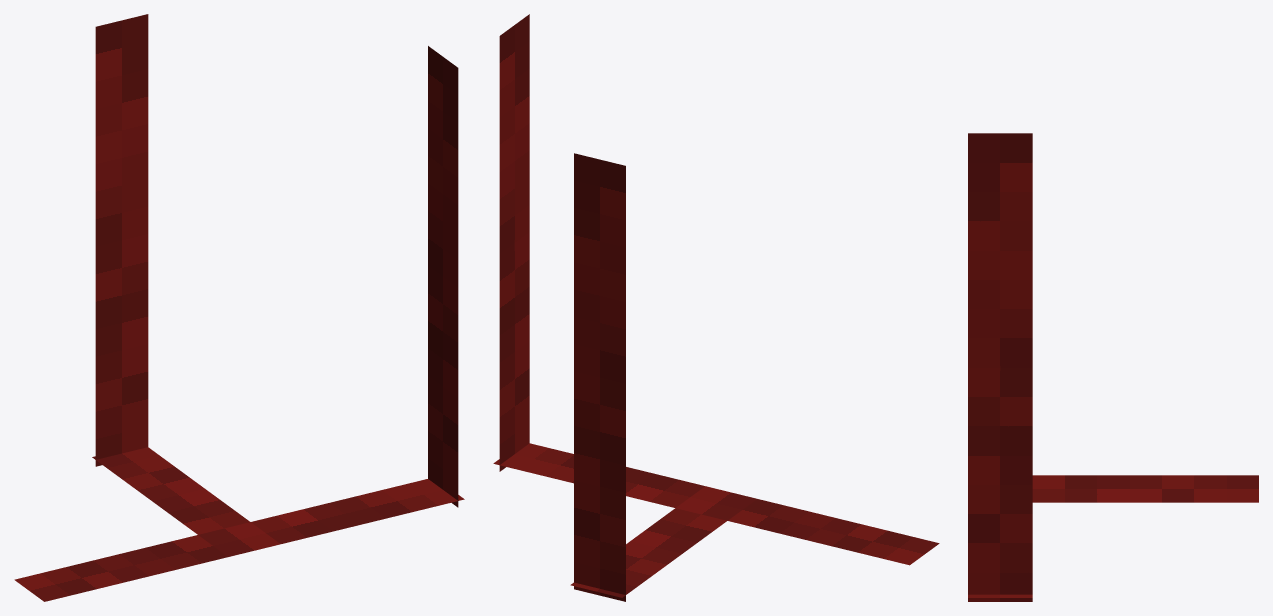
The model's file is dust_2102.gltf.
The picture shows the model from 3 angles, left to right: view 1: azimuth 30°, elevation 25°; view 2: azimuth 150°, elevation 25°; view 3: azimuth 270°, elevation 25°; orthographic projection. The views are drawn at different scales.
Visible parts, largest first — view 1: dust_2102; view 2: dust_2102; view 3: dust_2102.
Boxes of the visible parts, left/top/right/bottom form: dust_2102: left=14, top=14, right=464, bottom=601; dust_2102: left=493, top=14, right=939, bottom=601; dust_2102: left=968, top=133, right=1258, bottom=601.
Size of the model in its own units: 1 by 1 by 0.5625.
1 material, 1 textured.
